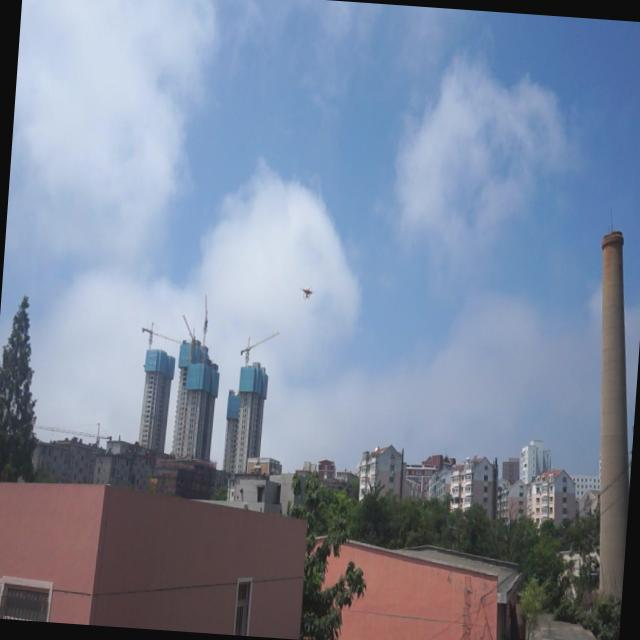drone: (298, 280, 316, 303)
